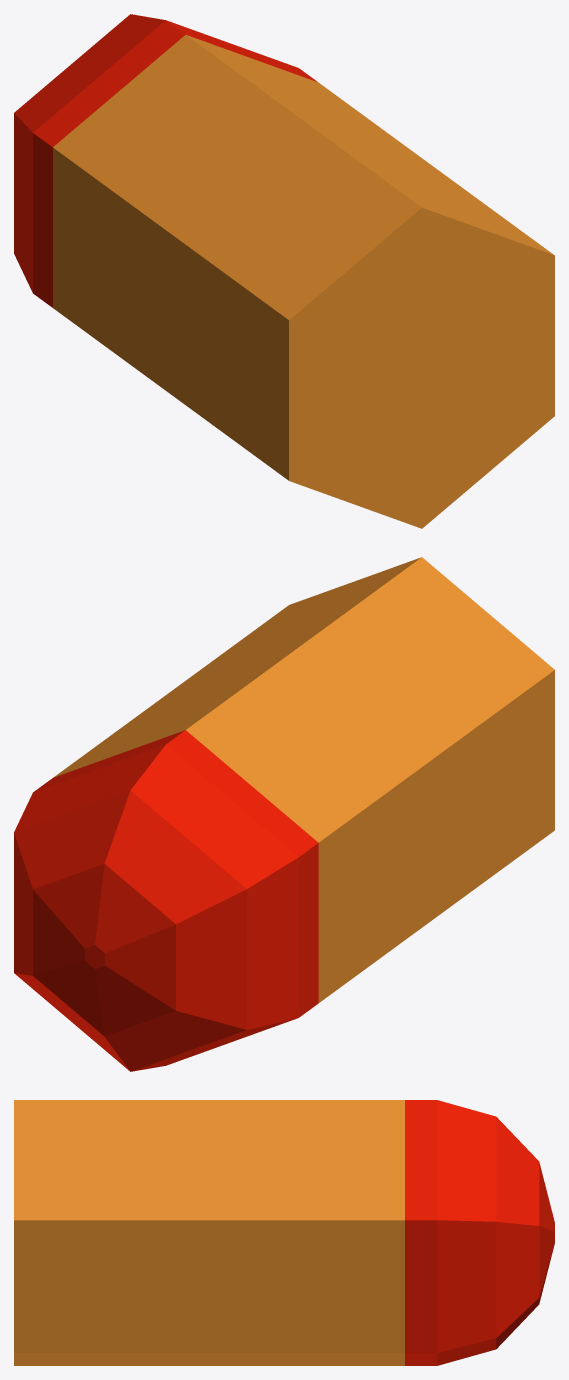
The model's file is Bullet.fbx.
3 renders of one model, top to bottom at view 1: azimuth 30°, elevation 25°; view 2: azimuth 150°, elevation 25°; view 3: azimuth 270°, elevation 25°, orthographic. The views are drawn at different scales.
Visible parts, largest first — view 1: Cylinder; view 2: Cylinder; view 3: Cylinder.
Part boxes in pixels (<box>): Cylinder: <box>14,14,554,528</box>; Cylinder: <box>14,557,554,1071</box>; Cylinder: <box>14,1100,554,1365</box>.
Bounding box in the file's own units: 86.6 × 100 × 185.
